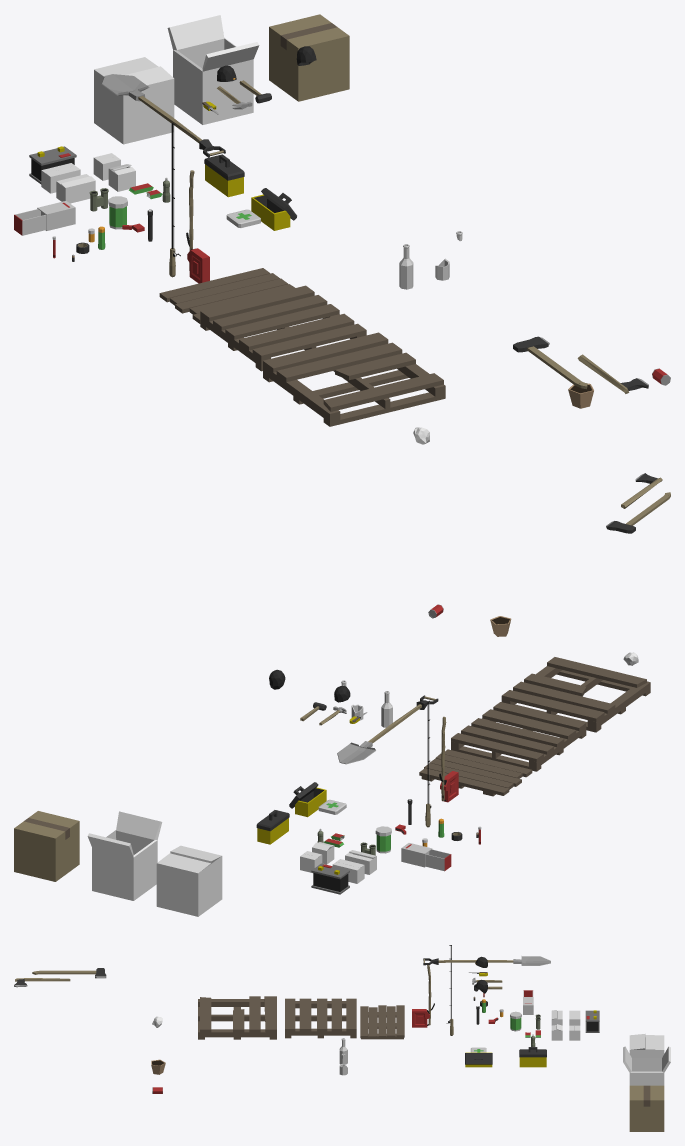
Rendered from Items.fbx.
3 views of the same model, one above another, from view 1: azimuth 30°, elevation 25°; view 2: azimuth 150°, elevation 25°; view 3: azimuth 270°, elevation 25° (orthographic). The views are drawn at different scales.
Parts seen in each view (by area): view 1: Pallet 2, Pallet, Box 6, Box 7, Box 5, Wooden Shield, Shovel, Tool Box, Car Battery, Box 1, Axe 2, Tool Box 2 (+6 smaller); view 2: Pallet, Pallet 2, Box 6, Box 5, Box 7, Wooden Shield, Shovel, Car Battery, Tool Box; view 3: Pallet 2, Pallet, Box 7, Wooden Shield, Box 6, Box 5, Shovel, Tool Box, Axe 2, Car Battery, Tool Box Lid, Gas Tank.
Boxes of the visible parts, <box> form: Pallet 2: <box>263,332,445,426</box>; Pallet: <box>200,285,366,371</box>; Box 6: <box>167,15,259,124</box>; Box 7: <box>269,14,349,101</box>; Box 5: <box>94,57,174,144</box>; Wooden Shield: <box>159,268,294,323</box>; Shovel: <box>101,74,225,157</box>; Tool Box: <box>204,154,244,197</box>; Car Battery: <box>29,146,76,184</box>; Box 1: <box>56,174,95,203</box>; Axe 2: <box>513,336,587,389</box>; Tool Box 2: <box>251,194,290,230</box>; Pallet: <box>451,702,586,771</box>; Pallet 2: <box>501,657,650,732</box>; Box 6: <box>87,811,162,900</box>; Box 5: <box>156,845,222,916</box>; Box 7: <box>14,811,79,881</box>; Wooden Shield: <box>419,749,532,796</box>; Shovel: <box>337,695,438,764</box>; Car Battery: <box>311,863,349,894</box>; Tool Box: <box>256,810,289,844</box>; Pallet 2: <box>198,996,276,1039</box>; Pallet: <box>285,998,356,1038</box>; Box 7: <box>629,1085,664,1131</box>; Wooden Shield: <box>360,1005,404,1039</box>; Box 6: <box>623,1046,670,1085</box>; Box 5: <box>629,1034,664,1057</box>; Shovel: <box>423,956,550,965</box>; Tool Box: <box>519,1047,546,1067</box>; Axe 2: <box>32,968,106,978</box>; Car Battery: <box>585,1010,599,1032</box>; Tool Box Lid: <box>465,1053,492,1064</box>; Gas Tank: <box>412,1003,434,1027</box>.
Size of the model in its own units: 526 by 209 by 1209.
